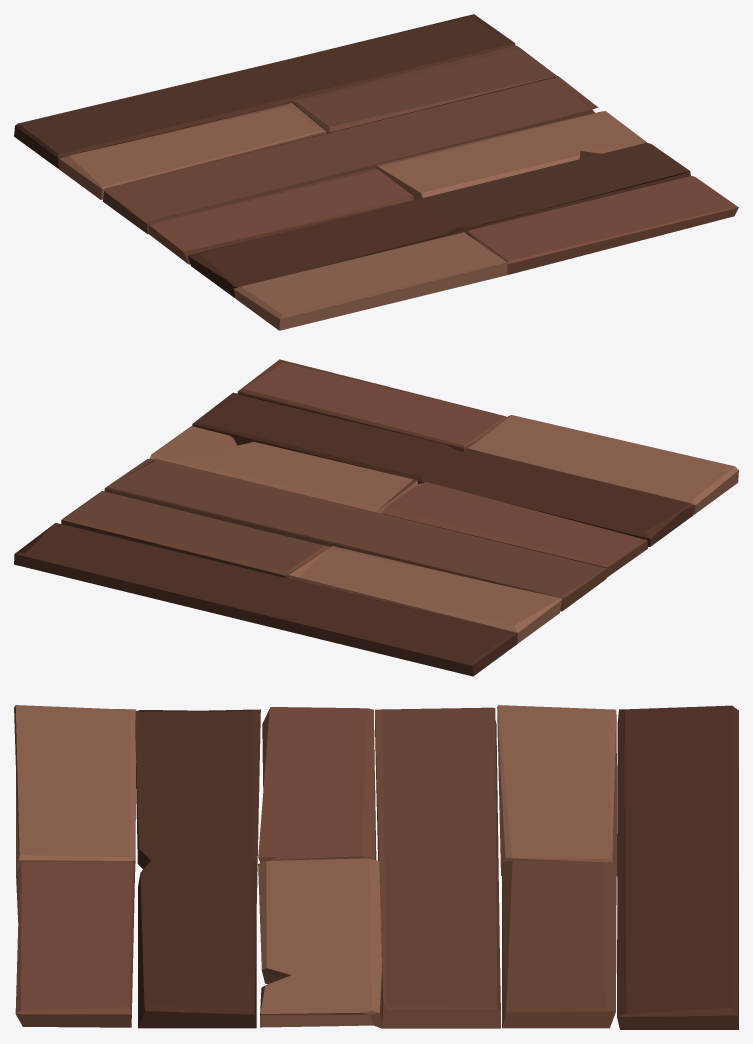
File: Floor_Wood_1M.glb
3 renders of one model, top to bottom at view 1: azimuth 30°, elevation 25°; view 2: azimuth 150°, elevation 25°; view 3: azimuth 270°, elevation 25°, orthographic. The views are drawn at different scales.
Parts seen in each view (by area): view 1: Floor_Wood_1M; view 2: Floor_Wood_1M; view 3: Floor_Wood_1M.
Part boxes in pixels (left/top/right/bottom): Floor_Wood_1M: left=14, top=14, right=738, bottom=330; Floor_Wood_1M: left=14, top=359, right=738, bottom=676; Floor_Wood_1M: left=14, top=705, right=738, bottom=1029.
Size of what is drawn, in the model's own units: 2.01 by 0.0644 by 2.
Materials: 1 (1 with a texture image).
